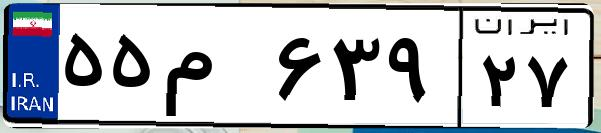2: (475, 38, 525, 113)
3: (330, 28, 385, 110)
5: (57, 26, 110, 100), (110, 28, 158, 98)
6: (270, 28, 330, 110)
7: (525, 38, 570, 115)
9: (385, 28, 445, 110)
م: (158, 20, 270, 120)
